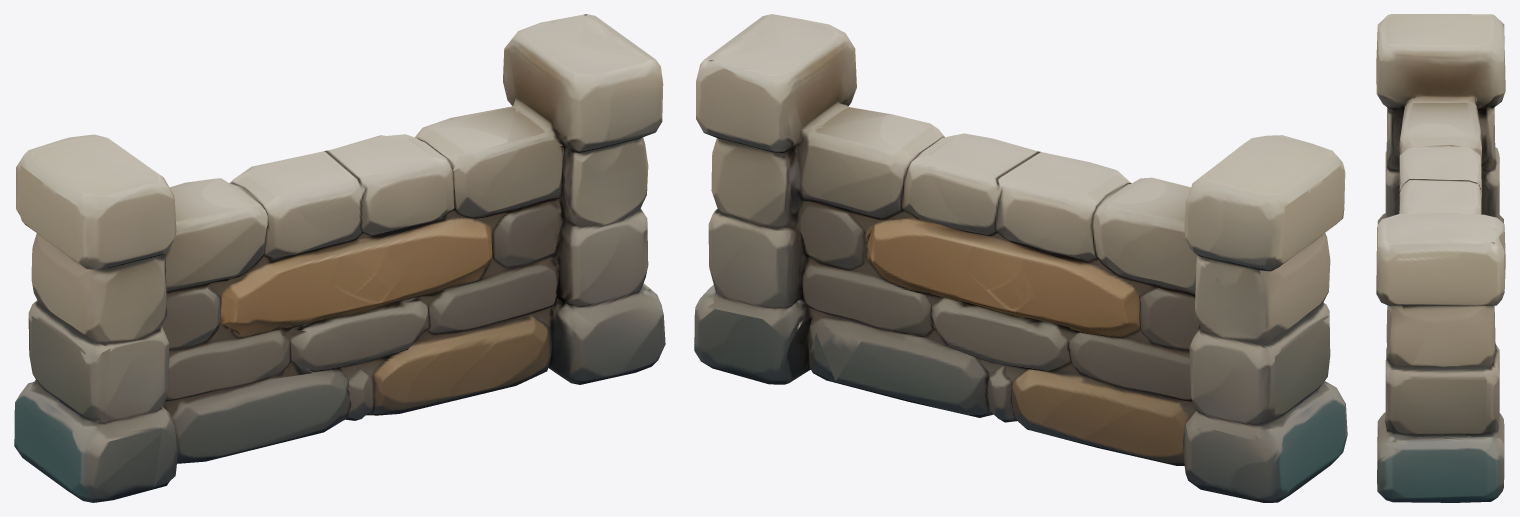
File: StoneFence.fbx
3 views of the same model, side by side, from view 1: azimuth 30°, elevation 25°; view 2: azimuth 150°, elevation 25°; view 3: azimuth 270°, elevation 25° (orthographic). The views are drawn at different scales.
Parts seen in each view (by area): view 1: StoneFence; view 2: StoneFence; view 3: StoneFence.
Boxes of the visible parts, <box> form: StoneFence: <box>14,14,665,502</box>; StoneFence: <box>694,14,1347,502</box>; StoneFence: <box>1376,14,1505,502</box>.
Bounding box in the file's own units: 181 × 90.37 × 41.21.
